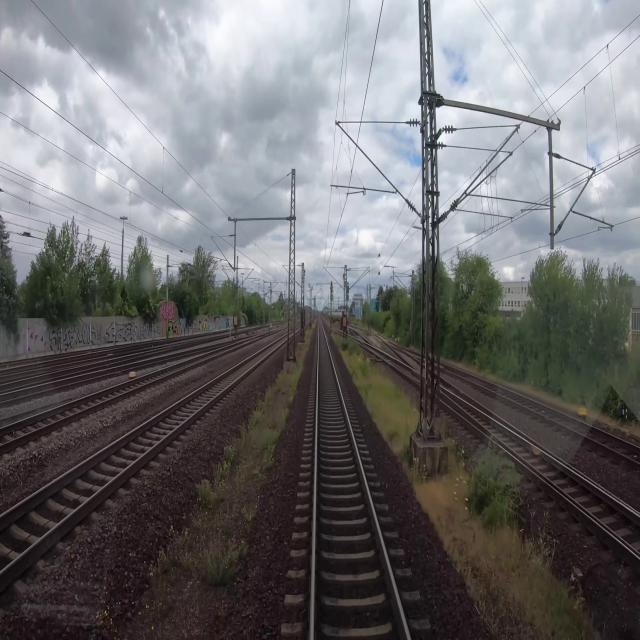Plant: (330, 332, 608, 639), (94, 321, 316, 639)
